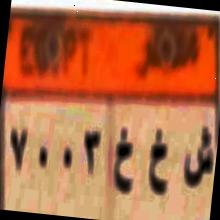0: (31, 140, 54, 176), (56, 138, 75, 178)
3: (79, 116, 106, 183)
7: (7, 122, 30, 174)
khaa: (142, 125, 174, 200), (108, 120, 139, 195)
sheen: (180, 120, 216, 196)
